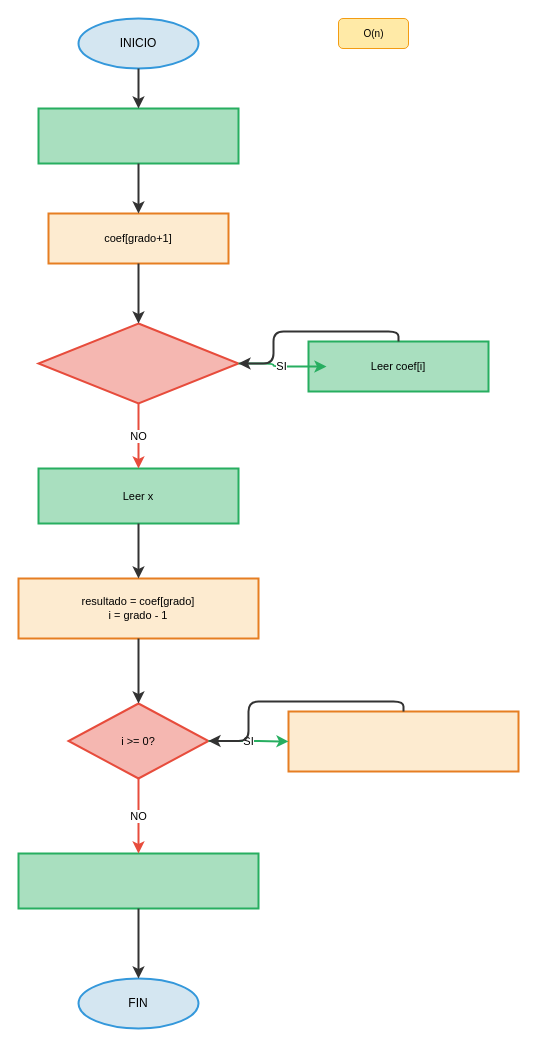
This 536x1046 diagram has some shape labels left out. Each missing label, with the centre of its shape:
"i <= grado? (leer coef)" belongs at [138,363].
"Imprimir P(x) = resultado" belongs at [138,880].
"Leer grado" belongs at [138,135].
"resultado = resultado * x + coef[i] i--" belongs at [403,741].
